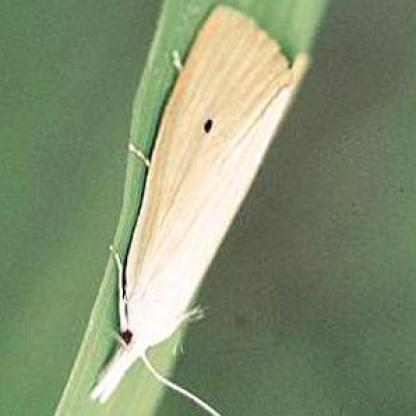stem-borer: (85, 1, 311, 416)
